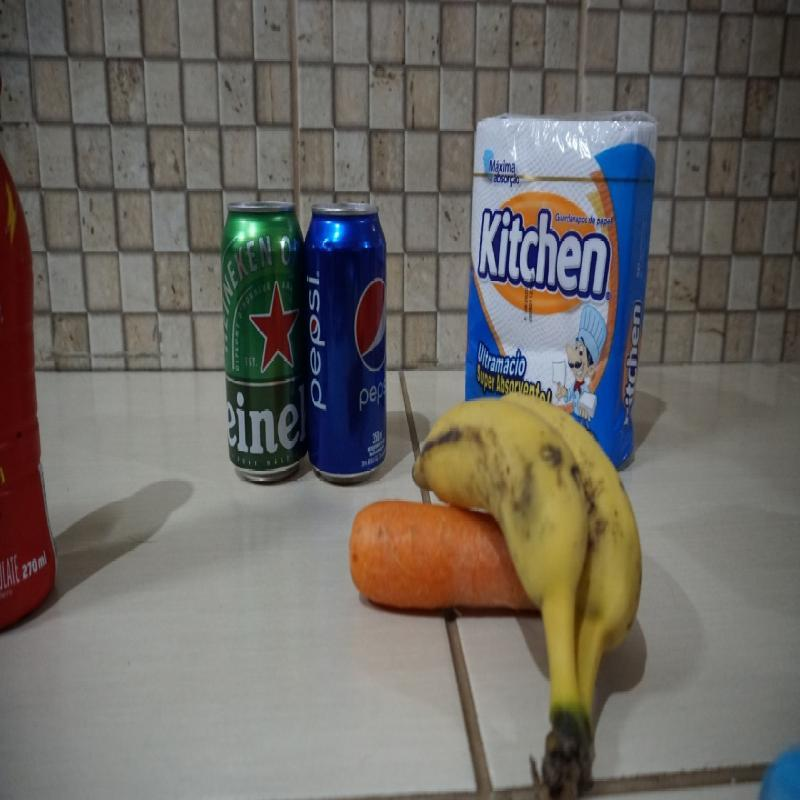Banana: (423, 375, 651, 794), (412, 392, 643, 791)
Beer can: (219, 197, 306, 487), (220, 199, 308, 479)
Carrot: (348, 495, 515, 642), (347, 495, 532, 618)
Chocolate Milk: (0, 149, 59, 632), (0, 144, 57, 636)
Napkin: (463, 111, 657, 465), (471, 126, 658, 434)
Soda can: (305, 200, 392, 489), (307, 197, 391, 484)
